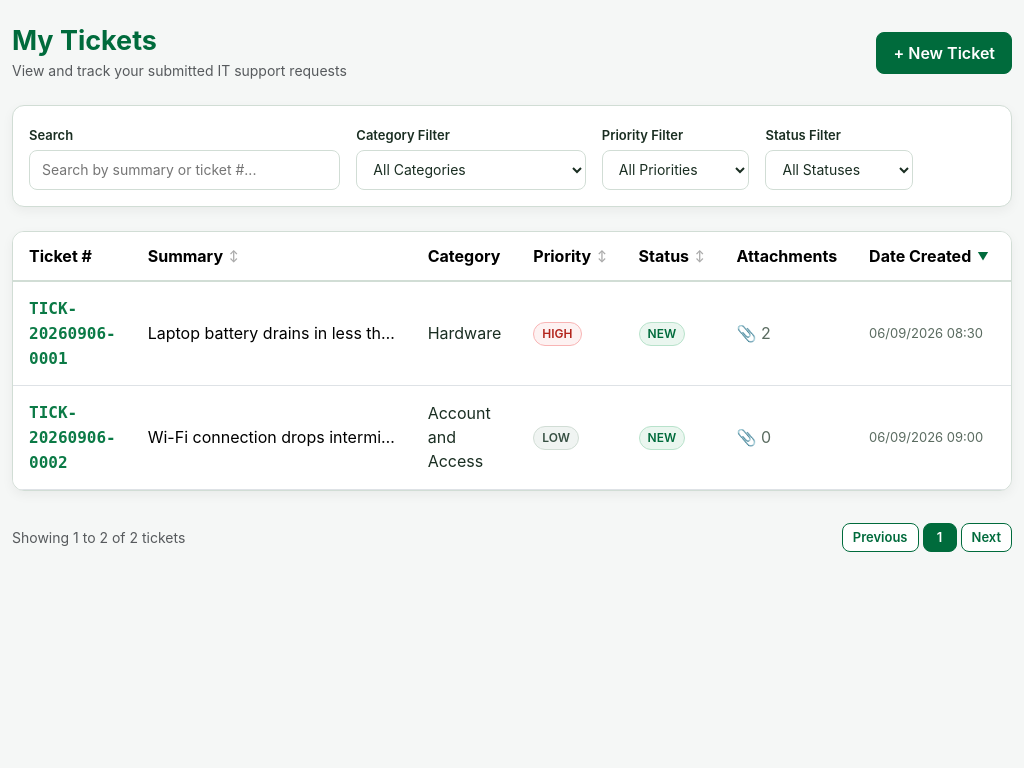
Scenario: MyTickets Component UI Tests › LIST-UI-03: No results search state › displays 'No tickets match your search criteria.' with 'Clear Filters' button when search has no results
Expected: the element with test id "tickets-table" is shown, left=12, top=231, right=1012, bottom=491
Type "NonExistentTicket999" into the field with placeholder "Search by summary or ticket #..." at (185, 170), box left=29, top=150, right=340, bottom=190
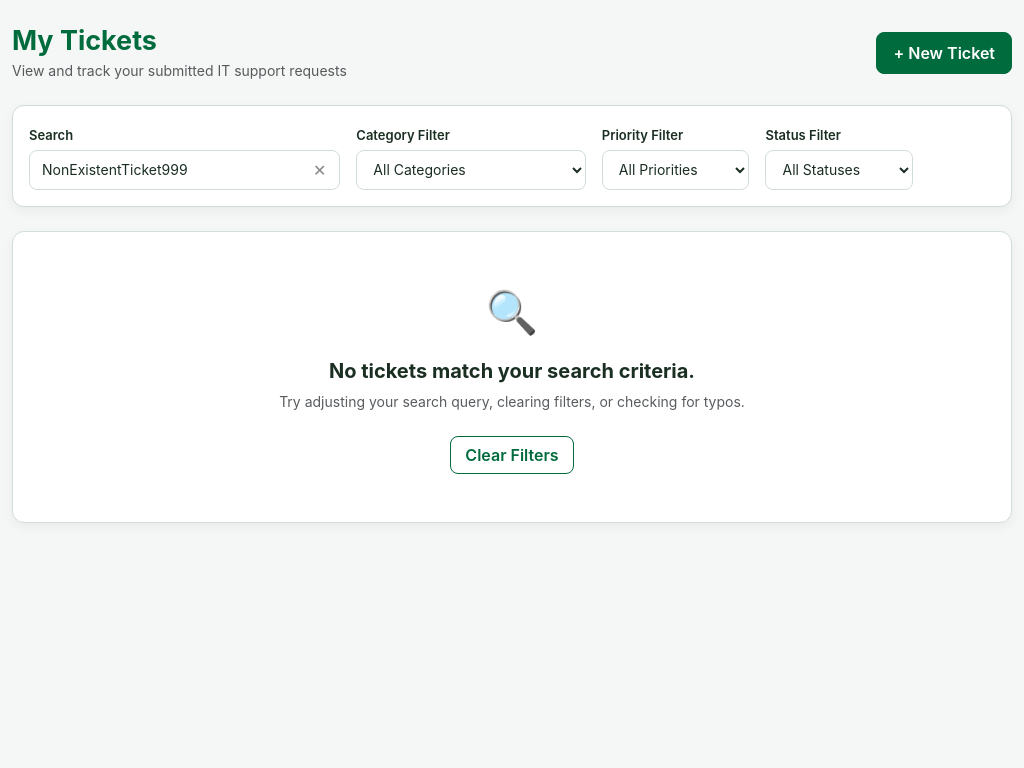
Expected: the heading "No tickets match your search criteria." is shown, left=329, top=359, right=695, bottom=383
Expected: the button "Clear Filters" is shown
Note: Clicking Clear Filters resets the search
Click the button "Clear Filters" at (512, 455), box left=450, top=436, right=574, bottom=474
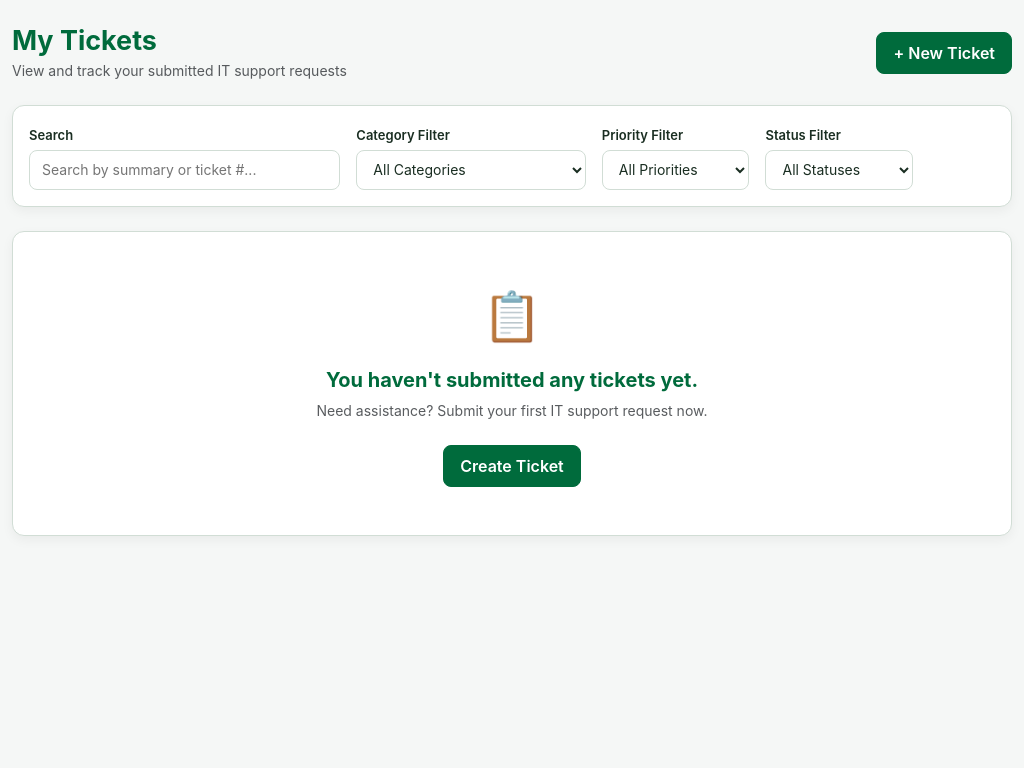
Expected: the field with placeholder "Search by summary or ticket #..." is empty, left=29, top=150, right=340, bottom=190
